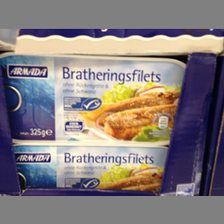fish: (1, 52, 188, 144), (9, 141, 170, 194)
